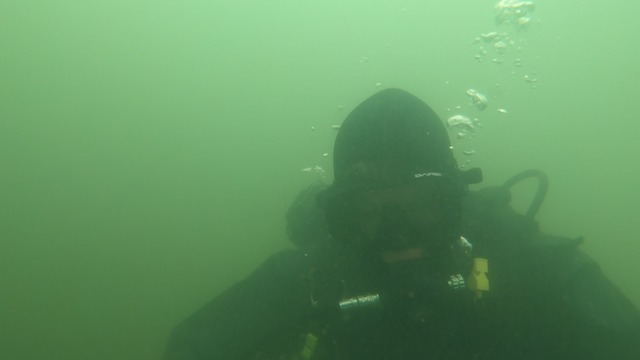Head: (291, 87, 515, 348)
